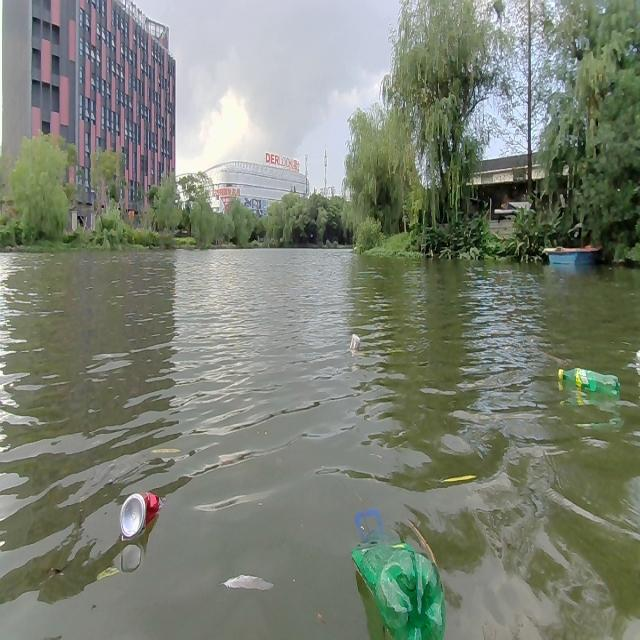bottle: (348, 531, 444, 639), (118, 485, 172, 539), (558, 362, 622, 404), (348, 331, 360, 356)
